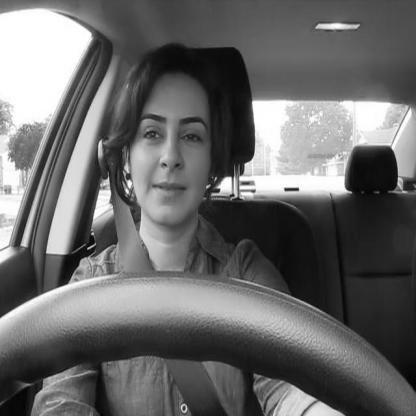seatbelt: (86, 26, 262, 416)
